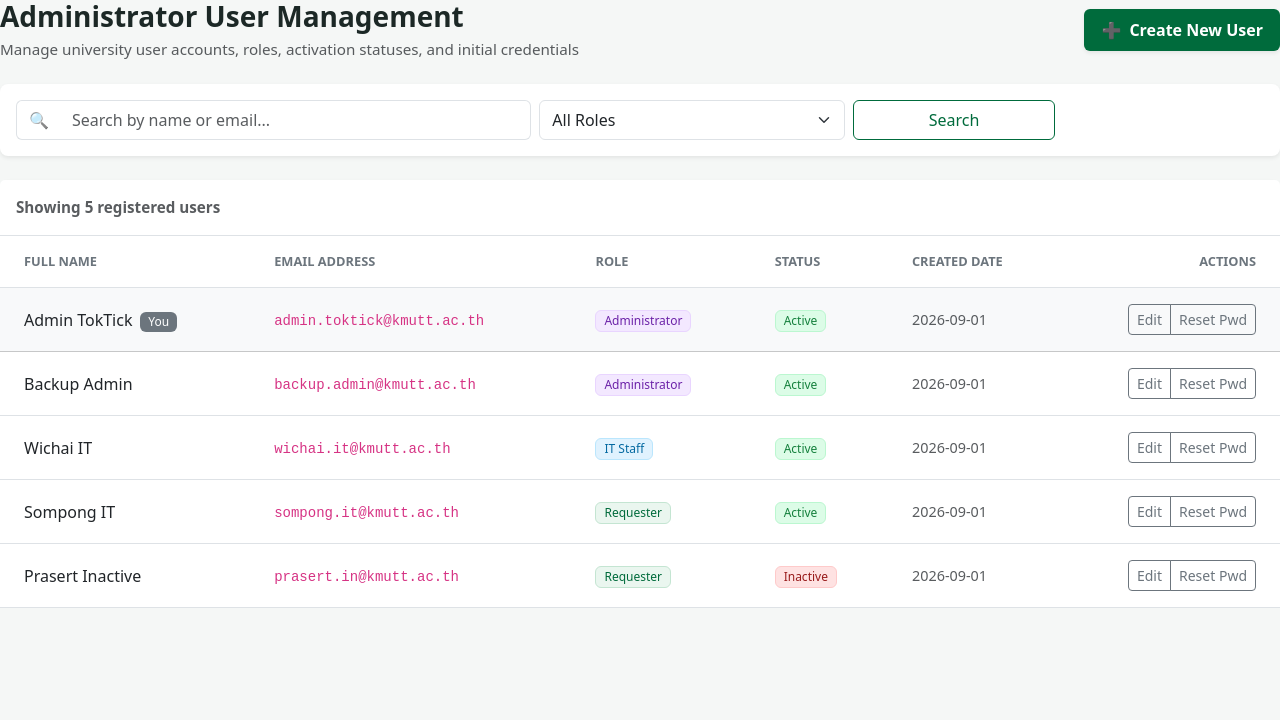
Test: UserManagement Component Suite (Issue 15) › UI-ADM-03: disables Active toggle and Role dropdown with warning when editing self
The width and height of the screenshot is (1280, 720).
Click the button with test id "btn-edit-user-1": (1150, 320) x1=1128 y1=304 x2=1171 y2=335
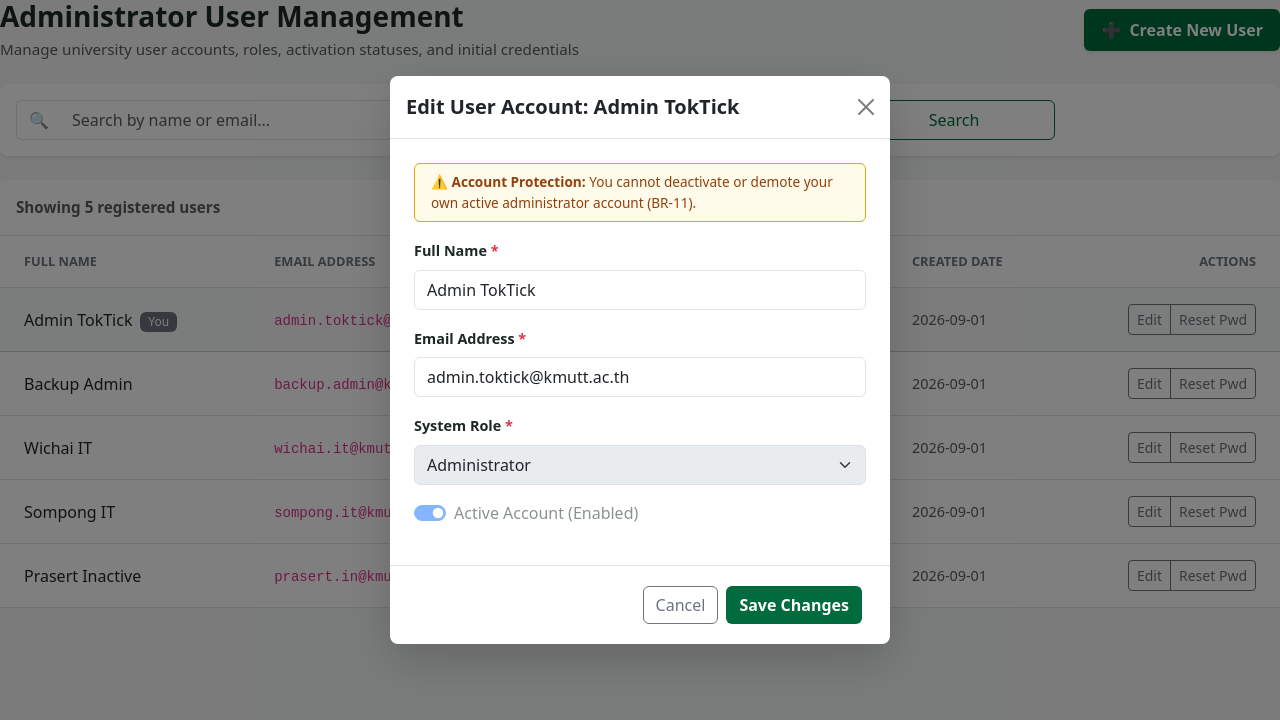
expect the heading "Edit User Account: Admin TokTick" is shown: met, box x1=406 y1=92 x2=740 y2=122
expect the element with test id "self-edit-warning" is shown: met, box x1=414 y1=163 x2=866 y2=222
expect the element with test id "self-edit-warning" shows "cannot deactivate or demote your own active administrator account": met, box x1=431 y1=172 x2=833 y2=212
